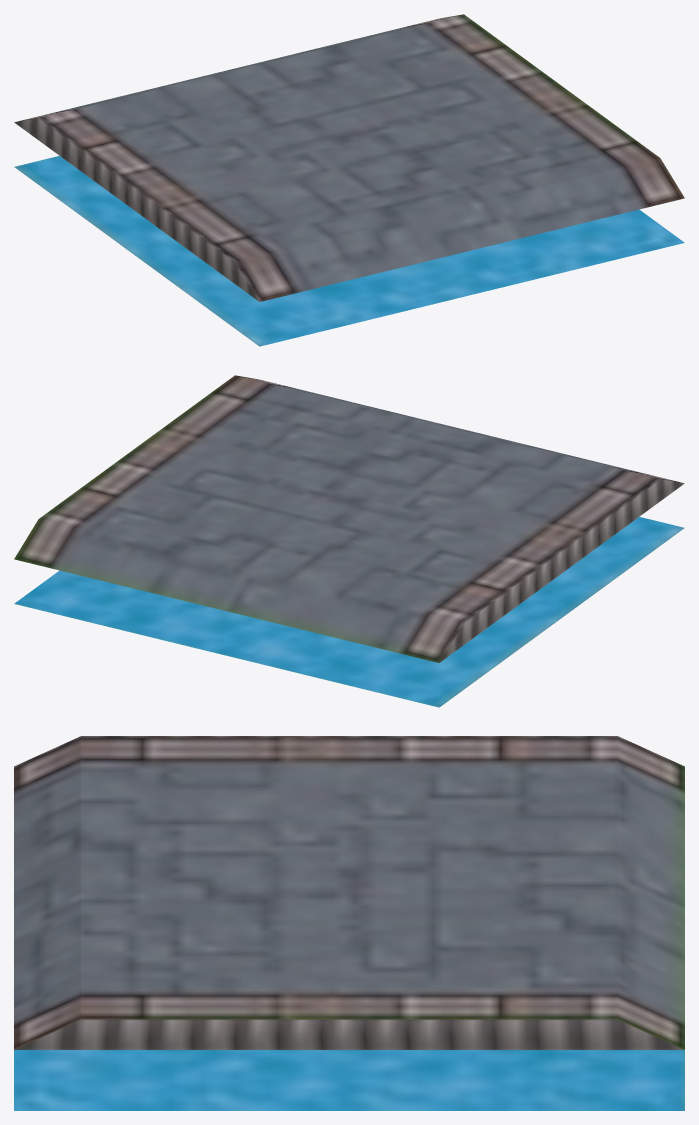
The model's file is bridge.glb.
The picture shows the model from 3 angles, top to bottom: view 1: azimuth 30°, elevation 25°; view 2: azimuth 150°, elevation 25°; view 3: azimuth 270°, elevation 25°; orthographic projection. The views are drawn at different scales.
Visible parts, largest first — view 1: bridge; view 2: bridge; view 3: bridge.
Boxes of the visible parts, left/top/right/bottom form: bridge: left=14, top=14, right=684, bottom=346; bridge: left=14, top=375, right=684, bottom=707; bridge: left=14, top=736, right=684, bottom=1110.
Bounding box in the file's own units: 2 × 0.3 × 2.
Materials: 1 (1 with a texture image).
